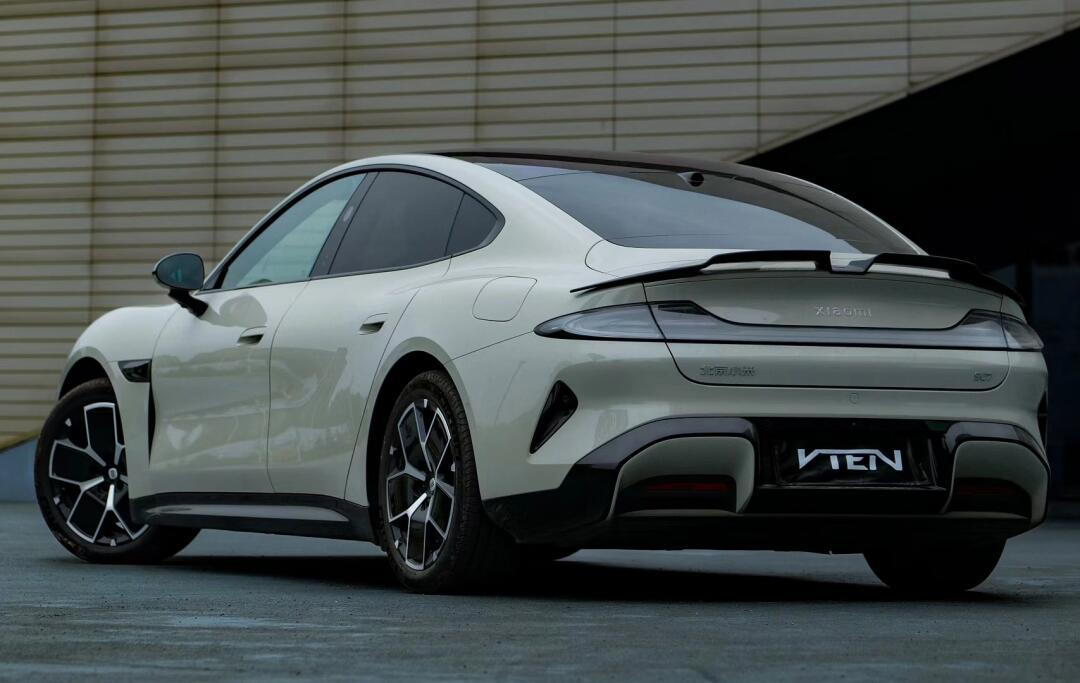su7: (35, 149, 1062, 608)
